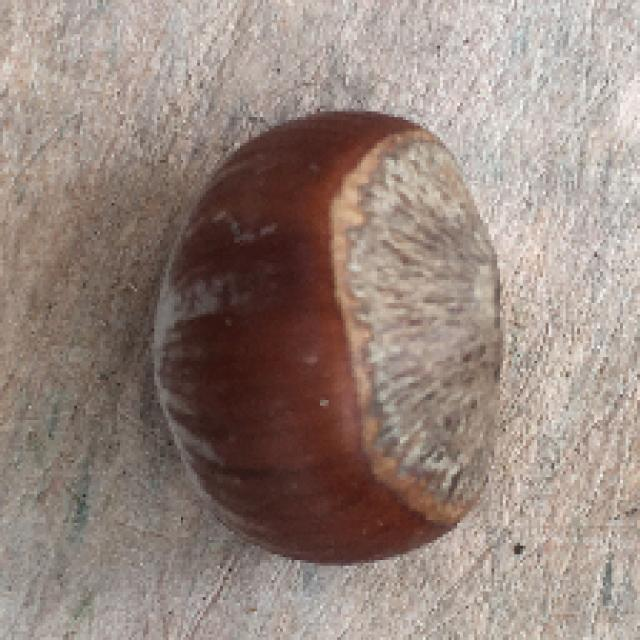DamagedHazelnut: (152, 110, 509, 567)
